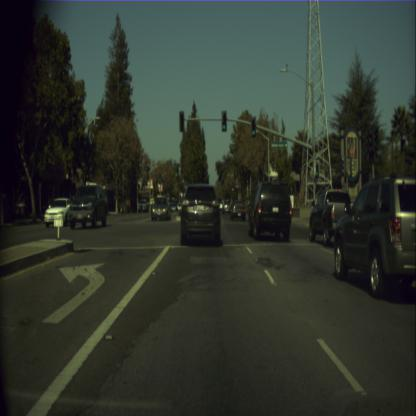Green: (221, 110, 226, 131), (251, 116, 256, 136), (374, 128, 378, 147), (315, 164, 318, 177)
off: (178, 111, 184, 130)
